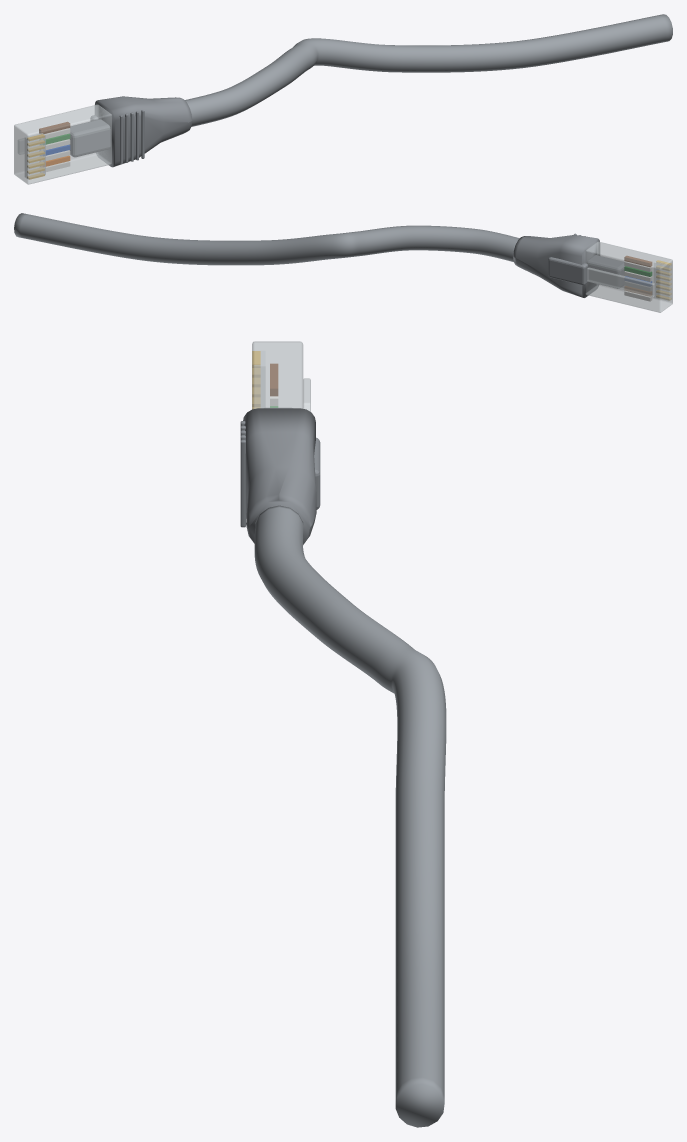
Rendered from rj45-cable-vfu-6Vzf.glb.
3 views of the same model, one above another, from view 1: azimuth 30°, elevation 25°; view 2: azimuth 150°, elevation 25°; view 3: azimuth 270°, elevation 25° (orthographic). The views are drawn at different scales.
Parts seen in each view (by area): view 1: rj45_cable, rj45_body, rj45_boot, rj45_jacket_in, rj45_contacts_block; view 2: rj45_cable, rj45_body, rj45_boot, rj45_latch, rj45_jacket_in, rj45_guard, rj45_contacts_block, rj45_wire7; view 3: rj45_cable, rj45_boot, rj45_body.
Boxes of the visible parts, x1,y1,x2,y2 form: rj45_cable: (185, 14, 672, 126); rj45_body: (14, 104, 111, 184); rj45_boot: (95, 96, 192, 167); rj45_jacket_in: (69, 119, 110, 157); rj45_contacts_block: (25, 133, 45, 179); rj45_cable: (14, 213, 519, 265); rj45_body: (585, 241, 672, 312); rj45_boot: (513, 235, 599, 297); rj45_latch: (587, 267, 654, 297); rj45_jacket_in: (586, 255, 624, 288); rj45_guard: (548, 257, 588, 285); rj45_contacts_block: (654, 260, 671, 301); rj45_wire7: (624, 256, 652, 266); rj45_cable: (254, 505, 446, 1127); rj45_boot: (243, 408, 316, 544); rj45_body: (252, 341, 303, 409).
Size of the model in its own units: 0.1656 by 0.0255 by 0.0241.
